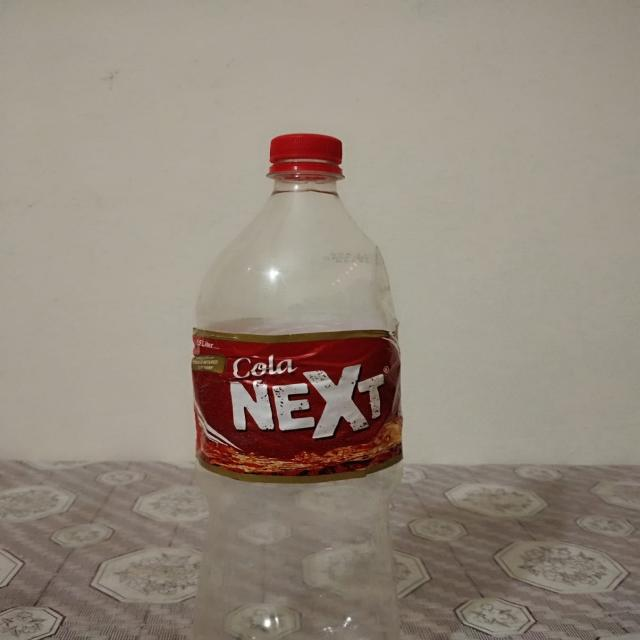bottle: (197, 134, 404, 640)
cap: (270, 134, 342, 176)
label: (193, 333, 409, 484)
